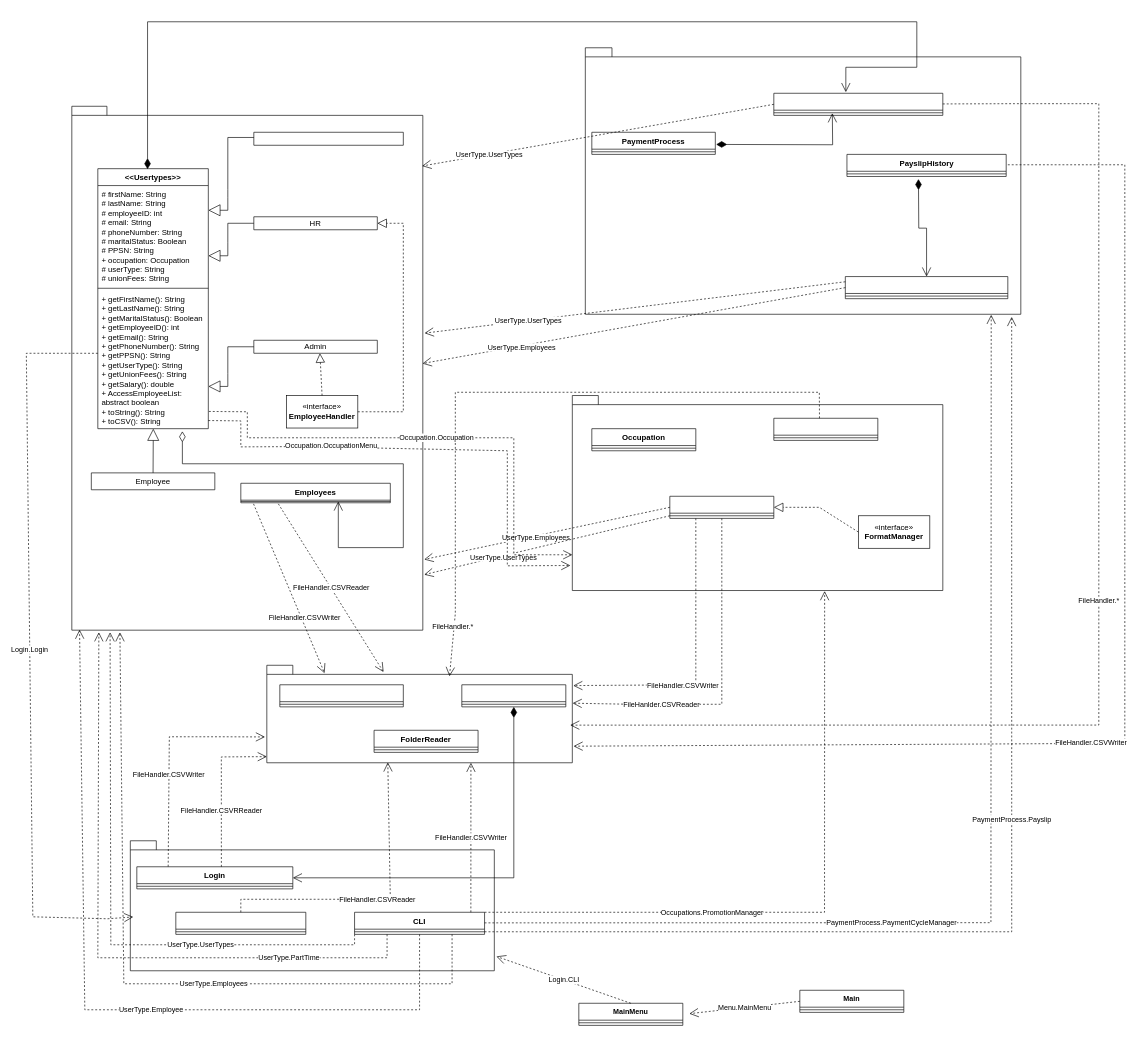
This 1145x1037 diagram has some shape labels left out. Here are the shapes that lost their labels. From the top down, the box of each, then its label:
(773, 93, 943, 115): Payslip
(253, 132, 403, 145): PartTime
(845, 276, 1008, 299): PaymentCycleManager
(773, 418, 878, 440): OccupationMenu
(669, 496, 774, 518): PromotionManager
(279, 684, 403, 707): CSVReader
(461, 684, 566, 707): CSVWriter
(175, 912, 306, 934): Logins
